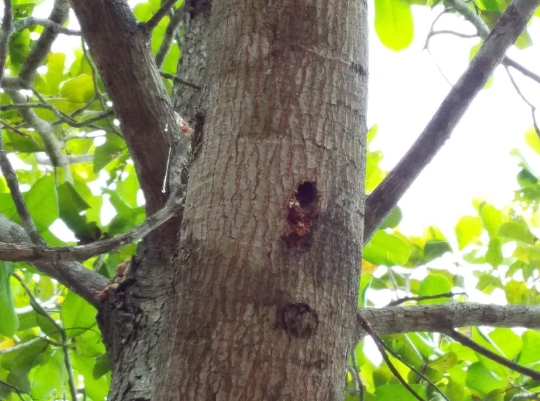Apate terebrans: (285, 175, 332, 238)
